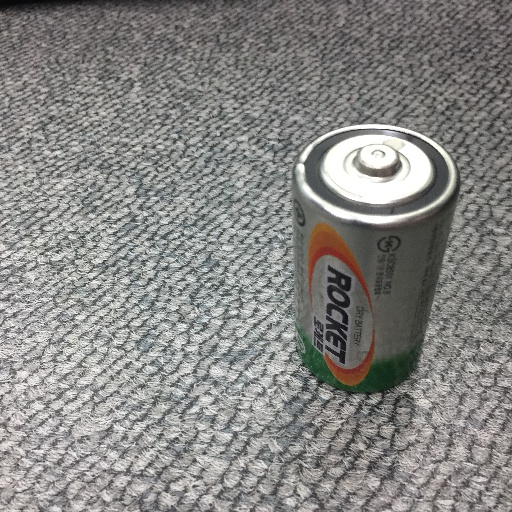Battery_0: (280, 112, 464, 403)
